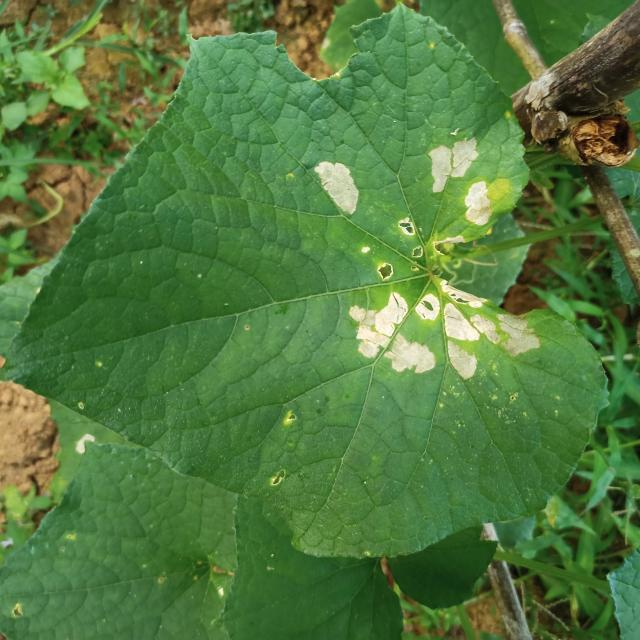disease_cucumber: (347, 278, 544, 382), (427, 134, 480, 198), (312, 158, 365, 218), (462, 180, 494, 226), (396, 216, 427, 262), (376, 260, 395, 281)
